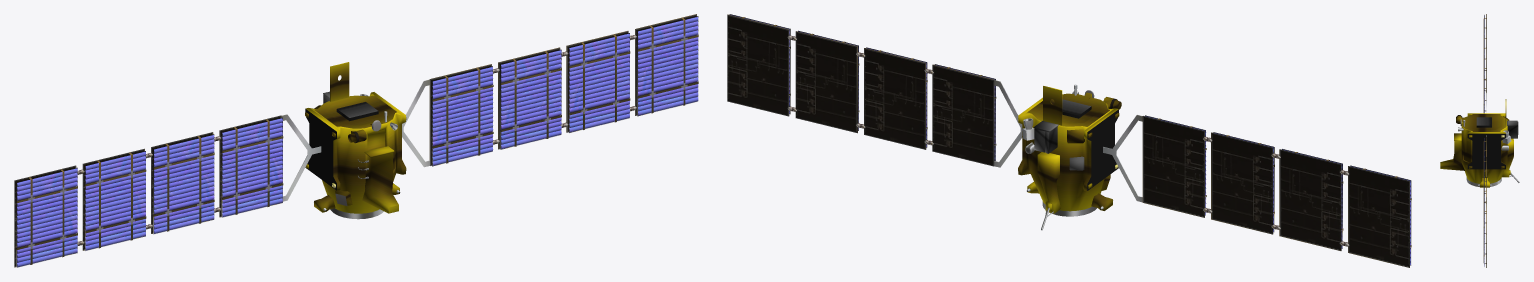
File: Deep Space 1_nodraco.glb
The picture shows the model from 3 angles, left to right: view 1: azimuth 30°, elevation 25°; view 2: azimuth 150°, elevation 25°; view 3: azimuth 270°, elevation 25°; orthographic projection. The views are drawn at different scales.
Visible parts, largest first — view 1: shiny_panel, tex_01, foil_gold, black_krinkle, foil_silver; view 2: tex_01, foil_gold, black_krinkle, foil_silver, shiny_panel; view 3: foil_gold, black_krinkle, tex_01, foil_silver, shiny_panel.
Boxes of the visible parts, bbox=[...] form: shiny_panel: bbox=[17, 17, 698, 267]; tex_01: bbox=[14, 14, 698, 267]; foil_gold: bbox=[305, 62, 406, 213]; black_krinkle: bbox=[305, 109, 378, 190]; foil_silver: bbox=[323, 91, 377, 178]; tex_01: bbox=[727, 14, 1411, 267]; foil_gold: bbox=[1018, 86, 1121, 213]; black_krinkle: bbox=[1062, 106, 1118, 190]; foil_silver: bbox=[1033, 99, 1090, 170]; shiny_panel: bbox=[730, 14, 1410, 265]; foil_gold: bbox=[1440, 99, 1513, 187]; black_krinkle: bbox=[1467, 125, 1505, 169]; tex_01: bbox=[1456, 14, 1519, 267]; foil_silver: bbox=[1476, 117, 1518, 138]; shiny_panel: bbox=[1484, 15, 1484, 266].
Size of the model in its own units: 11.8 by 2.22 by 1.96.
5 materials, 4 textured.
